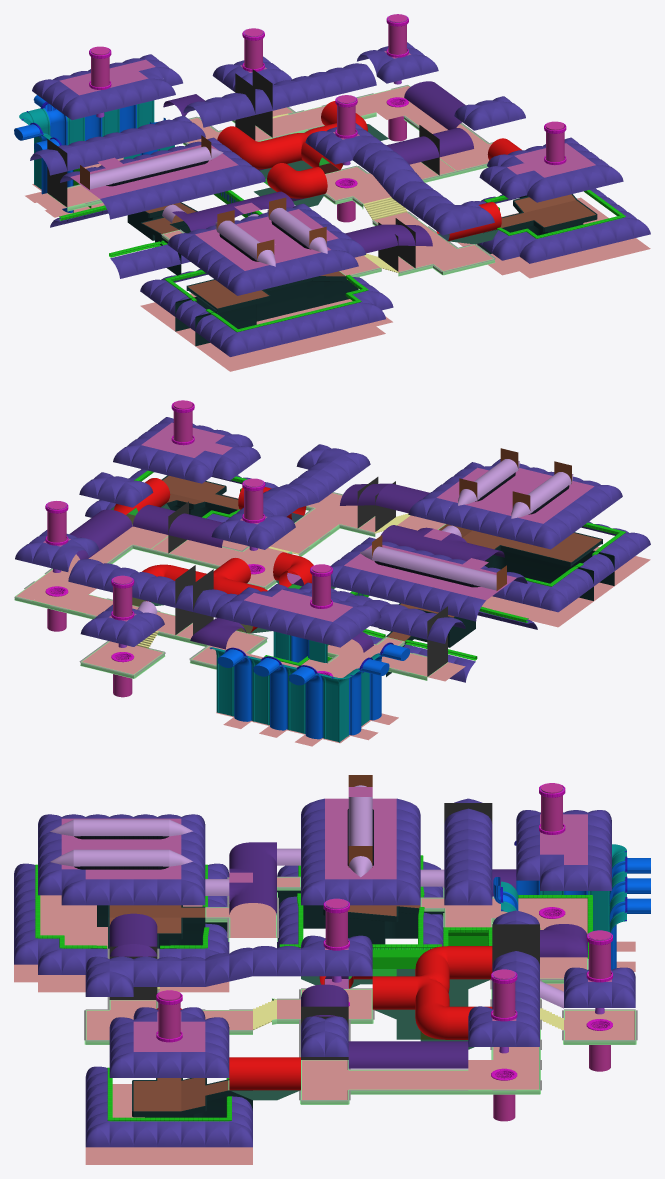
Rendered from RunnelsExport2.fbx.
3 views of the same model, one above another, from view 1: azimuth 30°, elevation 25°; view 2: azimuth 150°, elevation 25°; view 3: azimuth 270°, elevation 25° (orthographic). The views are drawn at different scales.
Parts seen in each view (by area): view 1: PipeInteriorBend003, PipeInteriorBend002, Hole005, Hole007, Hole008, Hole001, Hole002, TileOverWaterOneEdge009, TileOverWaterOneEdge008; view 2: Hole005, Hole008, Hole001, Hole002, Hole007; view 3: PipeInteriorBend001, Hole001, Hole008, Hole002, Hole007, Hole005, PipeInterior001, PipeInterior002, PipeInterior007, PipeInterior008, PipeInterior009, PipeInteriorSingleBendAttachR003 (+48 smaller).
Boxes of the visible parts, left/top/right/bottom form: PipeInteriorBend003: left=275, top=169, right=312, bottom=198; PipeInteriorBend002: left=236, top=140, right=272, bottom=169; Hole005: left=244, top=28, right=262, bottom=68; Hole007: left=91, top=46, right=109, bottom=87; Hole008: left=546, top=121, right=564, bottom=162; Hole001: left=337, top=95, right=355, bottom=135; Hole002: left=388, top=14, right=406, bottom=54; TileOverWaterOneEdge009: left=306, top=276, right=329, bottom=309; TileOverWaterOneEdge008: left=272, top=282, right=294, bottom=317; Hole005: left=113, top=575, right=132, bottom=617; Hole008: left=173, top=400, right=192, bottom=442; Hole001: left=244, top=478, right=263, bottom=520; Hole002: left=47, top=501, right=66, bottom=542; Hole007: left=312, top=564, right=330, bottom=605; PipeInteriorBend001: left=415, top=1002, right=447, bottom=1039; Hole001: left=325, top=898, right=347, bottom=947; Hole008: left=158, top=990, right=180, bottom=1038; Hole002: left=493, top=969, right=515, bottom=1017; Hole007: left=541, top=783, right=562, bottom=831; Hole005: left=589, top=930, right=610, bottom=978; PipeInterior001: left=372, top=976, right=396, bottom=1009; PipeInterior002: left=468, top=946, right=492, bottom=979; PipeInterior007: left=277, top=1057, right=300, bottom=1090; PipeInterior008: left=253, top=1057, right=276, bottom=1090; PipeInterior009: left=229, top=1057, right=252, bottom=1090; PipeInteriorSingleBendAttachR003: left=447, top=1006, right=468, bottom=1039.
Bounding box in the file's own units: 4094 × 1313 × 4195.
